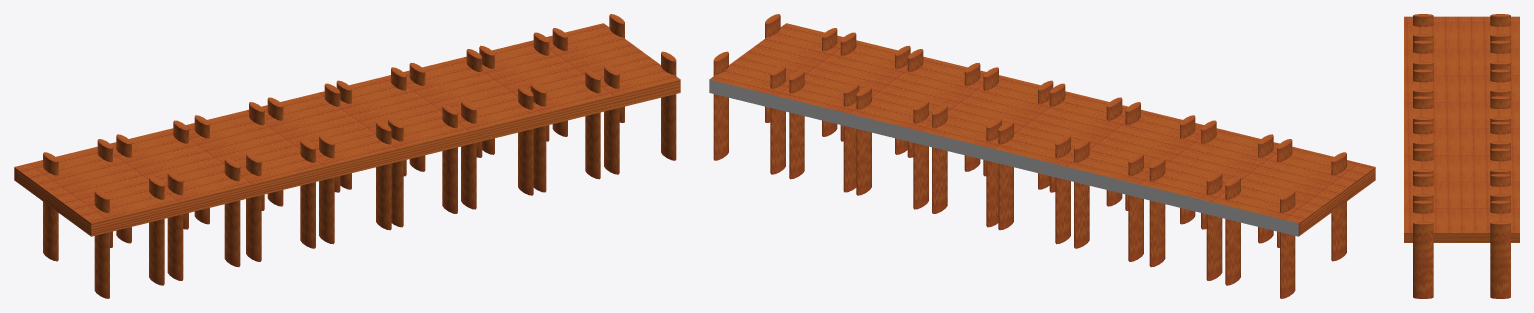
File: marsh.fbx
The picture shows the model from 3 angles, left to right: view 1: azimuth 30°, elevation 25°; view 2: azimuth 150°, elevation 25°; view 3: azimuth 270°, elevation 25°; orthographic projection. The views are drawn at different scales.
Parts seen in each view (by area): view 1: Mesh (2); view 2: Mesh (2); view 3: Mesh (2).
Boxes of the visible parts, <box> form: Mesh (2): <box>14,14,680,298</box>; Mesh (2): <box>709,14,1375,298</box>; Mesh (2): <box>1404,14,1519,298</box>.
Bounding box in the file's own units: 13969 × 2230 × 3142.
2 materials, 1 textured.
